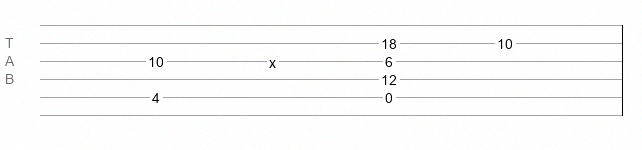0: (385, 90, 393, 100)
10: (148, 54, 164, 64), (497, 36, 513, 46)
12: (381, 72, 397, 82)
18: (381, 36, 397, 46)
4: (152, 90, 160, 100)
6: (385, 54, 393, 64)
x: (269, 55, 276, 63)
